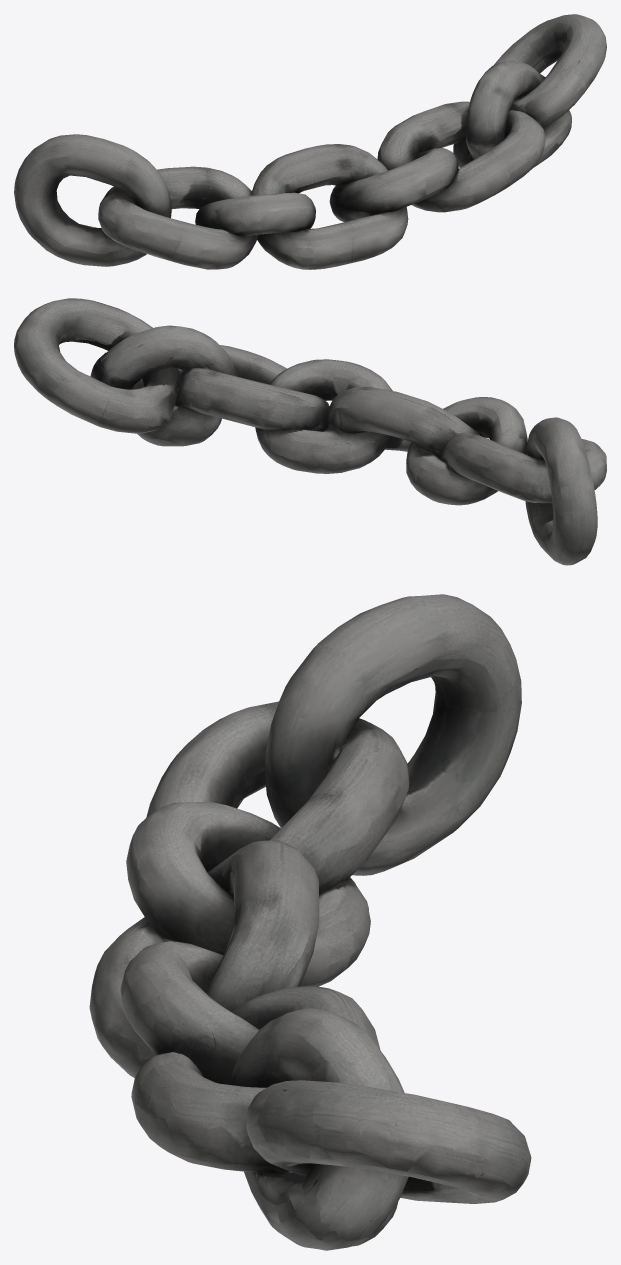
File: upm_muz17t0961s.glb
3 views of the same model, one above another, from view 1: azimuth 30°, elevation 25°; view 2: azimuth 150°, elevation 25°; view 3: azimuth 270°, elevation 25° (orthographic). The views are drawn at different scales.
Bounding box in the file's own units: 1.9 × 0.4041 × 0.642.
1 material, 1 textured.
